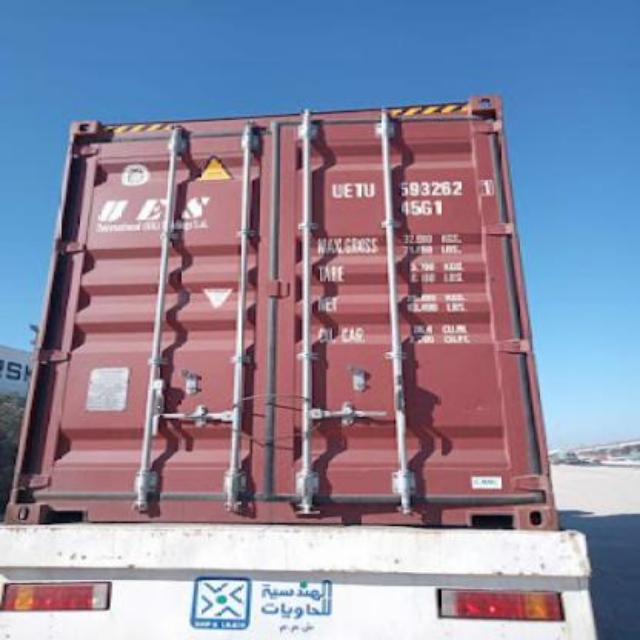1: (478, 180, 496, 196)
2: (450, 176, 466, 200), (430, 177, 442, 201)
3: (420, 181, 430, 197)
5: (398, 180, 408, 196)
6: (438, 176, 452, 198)
9: (410, 178, 420, 200)
E: (344, 177, 356, 201)
T: (350, 178, 368, 202)
U: (362, 179, 376, 197), (332, 182, 346, 198)
